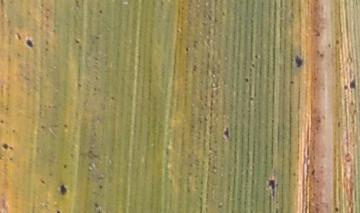tarspot: (266, 174, 277, 198), (22, 35, 35, 50), (221, 124, 231, 143), (293, 53, 304, 69), (57, 183, 67, 198), (15, 28, 24, 44), (92, 30, 101, 43), (313, 27, 322, 39), (74, 35, 82, 46), (191, 62, 199, 73), (93, 202, 102, 211), (39, 177, 47, 187), (183, 44, 191, 54), (330, 206, 341, 213), (109, 92, 116, 103), (341, 83, 350, 91), (2, 142, 10, 151), (310, 166, 316, 177), (288, 78, 296, 86), (7, 145, 15, 153), (10, 126, 17, 135), (97, 183, 104, 191), (3, 104, 9, 113), (60, 124, 69, 130), (333, 39, 340, 46), (244, 76, 250, 84), (63, 162, 69, 170), (8, 155, 14, 163), (96, 9, 103, 15), (55, 209, 62, 213), (97, 209, 103, 213), (1, 119, 5, 125)
